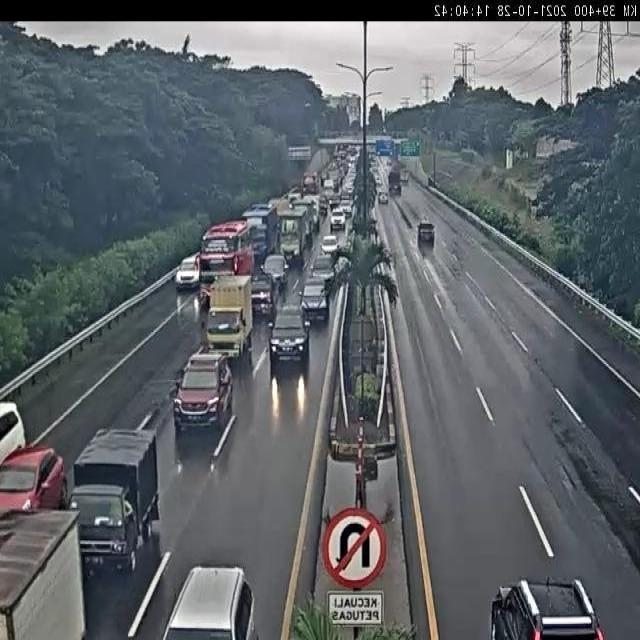Bus: (200, 218, 255, 300), (241, 203, 278, 262)
Car: (160, 564, 261, 640), (172, 351, 235, 436), (268, 307, 310, 373), (250, 270, 278, 321), (299, 284, 329, 326), (259, 256, 288, 290), (175, 256, 200, 292), (309, 261, 336, 294), (418, 220, 436, 247), (321, 234, 338, 255), (330, 209, 346, 231)
Truck: (72, 424, 166, 571), (205, 274, 254, 361), (277, 208, 306, 266)
